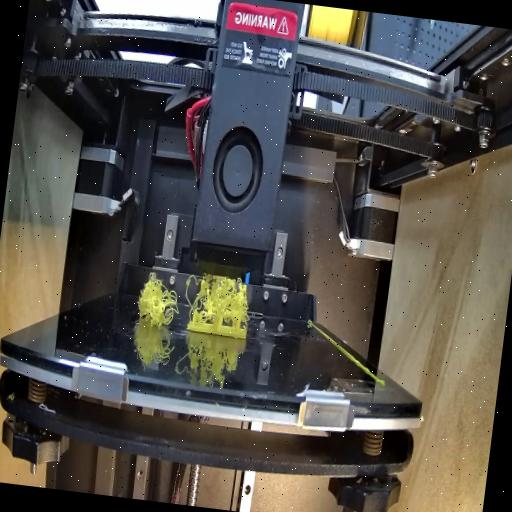spaghetti: (184, 269, 252, 325), (135, 268, 183, 330)
